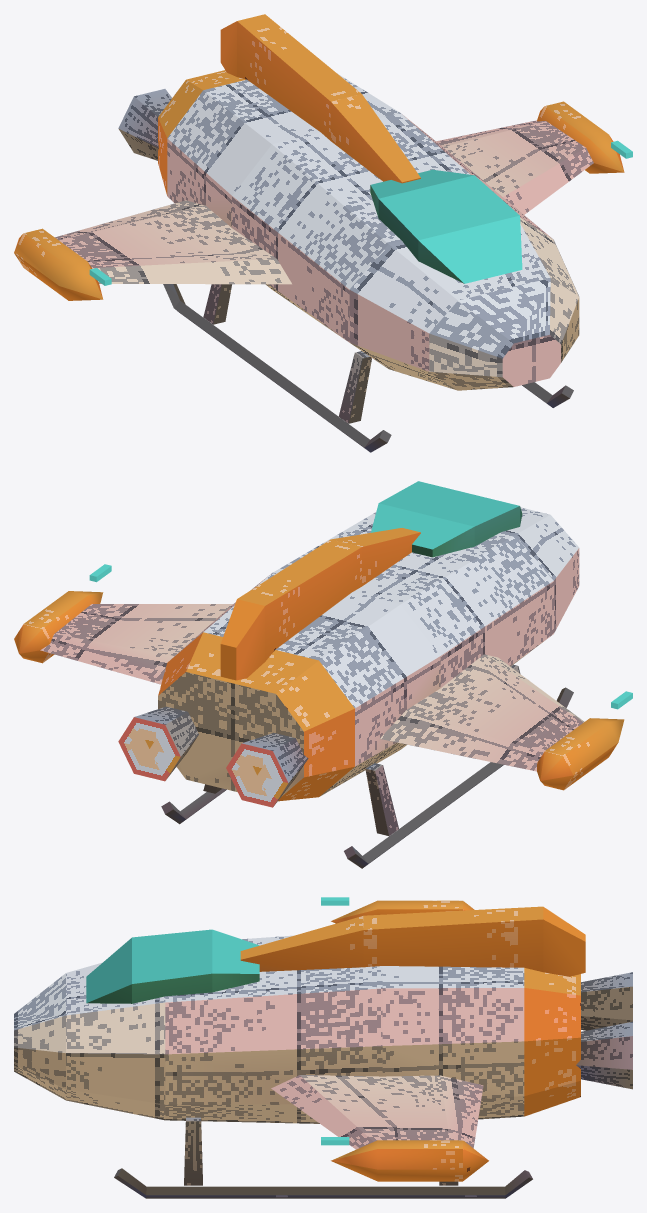
Rendered from ship.shuttle__level.glb.
3 renders of one model, top to bottom at view 1: azimuth 30°, elevation 25°; view 2: azimuth 150°, elevation 25°; view 3: azimuth 270°, elevation 25°, orthographic. The views are drawn at different scales.
Parts seen in each view (by area): view 1: kit_body, kit_wings, kit_spine, kit_canopy, kit_tip_pods, kit_skids, kit_struts, kit_thrusters; view 2: kit_body, kit_wings, kit_spine, kit_thrusters, kit_canopy, kit_tip_pods, kit_skids, kit_struts; view 3: kit_body, kit_spine, kit_wings, kit_canopy, kit_tip_pods, kit_thrusters, kit_skids, kit_struts, kit_nav_lights.
Boxes of the visible parts, bbox=[...] form: kit_body: bbox=[158, 70, 579, 390]; kit_wings: bbox=[55, 120, 593, 284]; kit_spine: bbox=[220, 14, 420, 183]; kit_canopy: bbox=[370, 169, 522, 283]; kit_tip_pods: bbox=[14, 101, 624, 300]; kit_skids: bbox=[163, 284, 573, 452]; kit_struts: bbox=[203, 284, 371, 423]; kit_thrusters: bbox=[118, 89, 171, 160]; kit_body: bbox=[158, 507, 579, 801]; kit_wings: bbox=[40, 604, 584, 771]; kit_spine: bbox=[220, 528, 420, 680]; kit_thrusters: bbox=[118, 706, 308, 807]; kit_canopy: bbox=[371, 481, 522, 557]; kit_tip_pods: bbox=[14, 591, 624, 790]; kit_skids: bbox=[161, 687, 573, 868]; kit_struts: bbox=[203, 664, 520, 835]; kit_body: bbox=[14, 935, 580, 1123]; kit_spine: bbox=[240, 906, 585, 976]; kit_wings: bbox=[271, 1075, 483, 1149]; kit_canopy: bbox=[86, 929, 259, 1003]; kit_tip_pods: bbox=[331, 900, 488, 1181]; kit_thrusters: bbox=[576, 972, 632, 1089]; kit_skids: bbox=[114, 1168, 532, 1198]; kit_struts: bbox=[184, 1117, 458, 1185]; kit_nav_lights: bbox=[321, 897, 349, 1145].
Size of the model in its own units: 6.44 by 2.84 by 6.55.
Materials: 7 (6 with a texture image).
